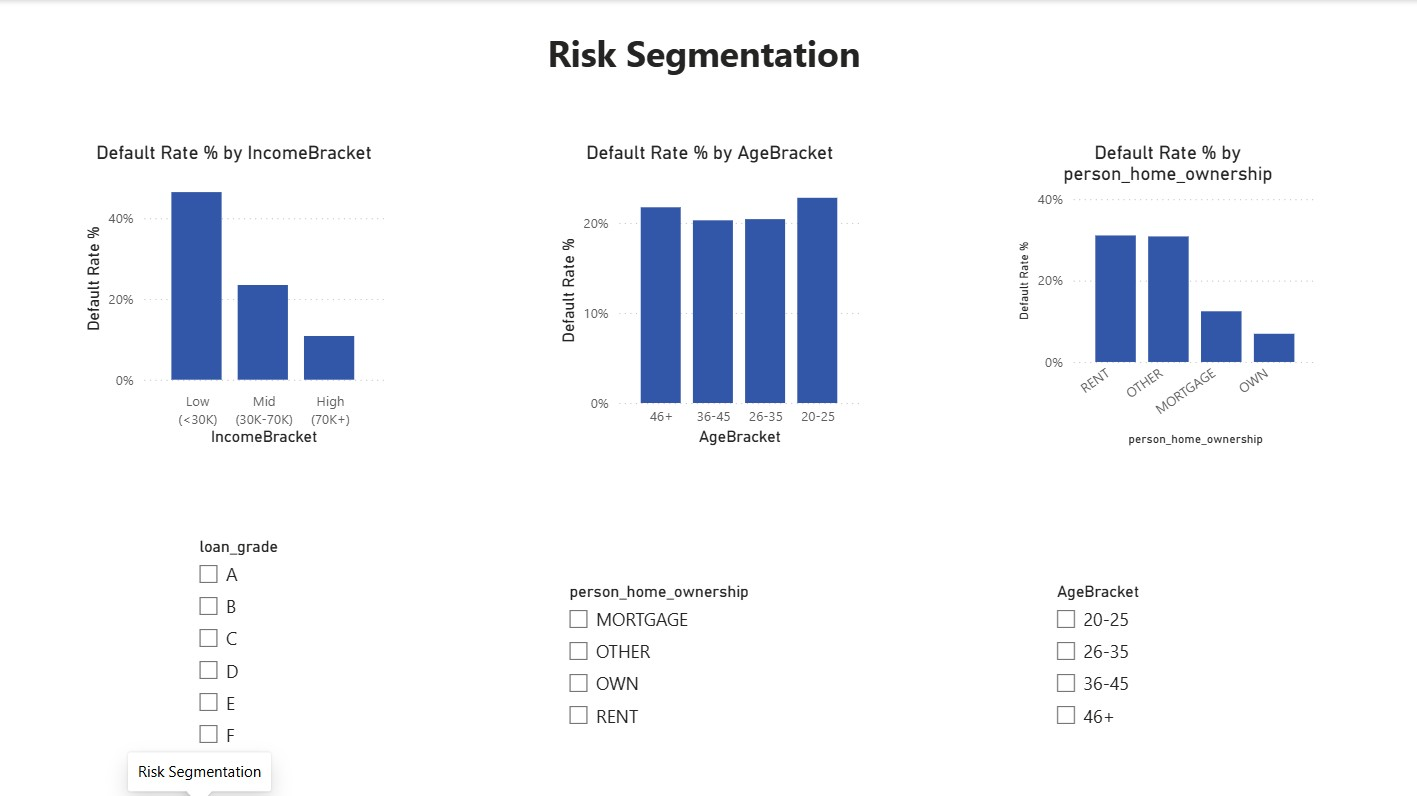

The dashboard page shown, as its layout file describes it:
{"tool":"powerbi","page":{"name":"Risk Segmentation","canvas":[1280,720],"ordinal":1},"visuals":[{"type":"clusteredColumnChart","fields":{"Category":["Loans.IncomeBracket"],"Y":["Loans.Default Rate %"]},"box":[70.9,127.2,280,280],"z":0},{"type":"clusteredColumnChart","fields":{"Category":["Loans.AgeBracket"],"Y":["Loans.Default Rate %"]},"box":[498.9,127.2,281.3,280],"z":1000},{"type":"clusteredColumnChart","fields":{"Category":["Loans.person_home_ownership"],"Y":["Loans.Default Rate %"]},"box":[913.5,127.2,280,280],"z":2000},{"type":"slicer","fields":{"Values":["Loans.loan_grade"]},"box":[166.3,479.4,195.7,240.9],"z":3000},{"type":"slicer","fields":{"Values":["Loans.person_home_ownership"]},"box":[500.1,519.7,280,151.6],"z":4000},{"type":"slicer","fields":{"Values":["Loans.AgeBracket"]},"box":[940.4,519.7,278.8,149.2],"z":5000},{"type":"textbox","box":[195.2,21.7,879.2,57.8],"z":6000}]}

Visuals, with their boxes in screenshot pixels (x1, y1, x2, y2), scaled from the page's 1280x720 canvas onto the 1417x796 screenshot:
clusteredColumnChart - Loans.IncomeBracket x Loans.Default Rate %: 78,141,388,450
clusteredColumnChart - Loans.AgeBracket x Loans.Default Rate %: 552,141,864,450
clusteredColumnChart - Loans.person_home_ownership x Loans.Default Rate %: 1011,141,1321,450
slicer - Loans.loan_grade: 184,530,401,795
slicer - Loans.person_home_ownership: 554,575,864,742
slicer - Loans.AgeBracket: 1041,575,1350,740
textbox: 216,24,1189,88
